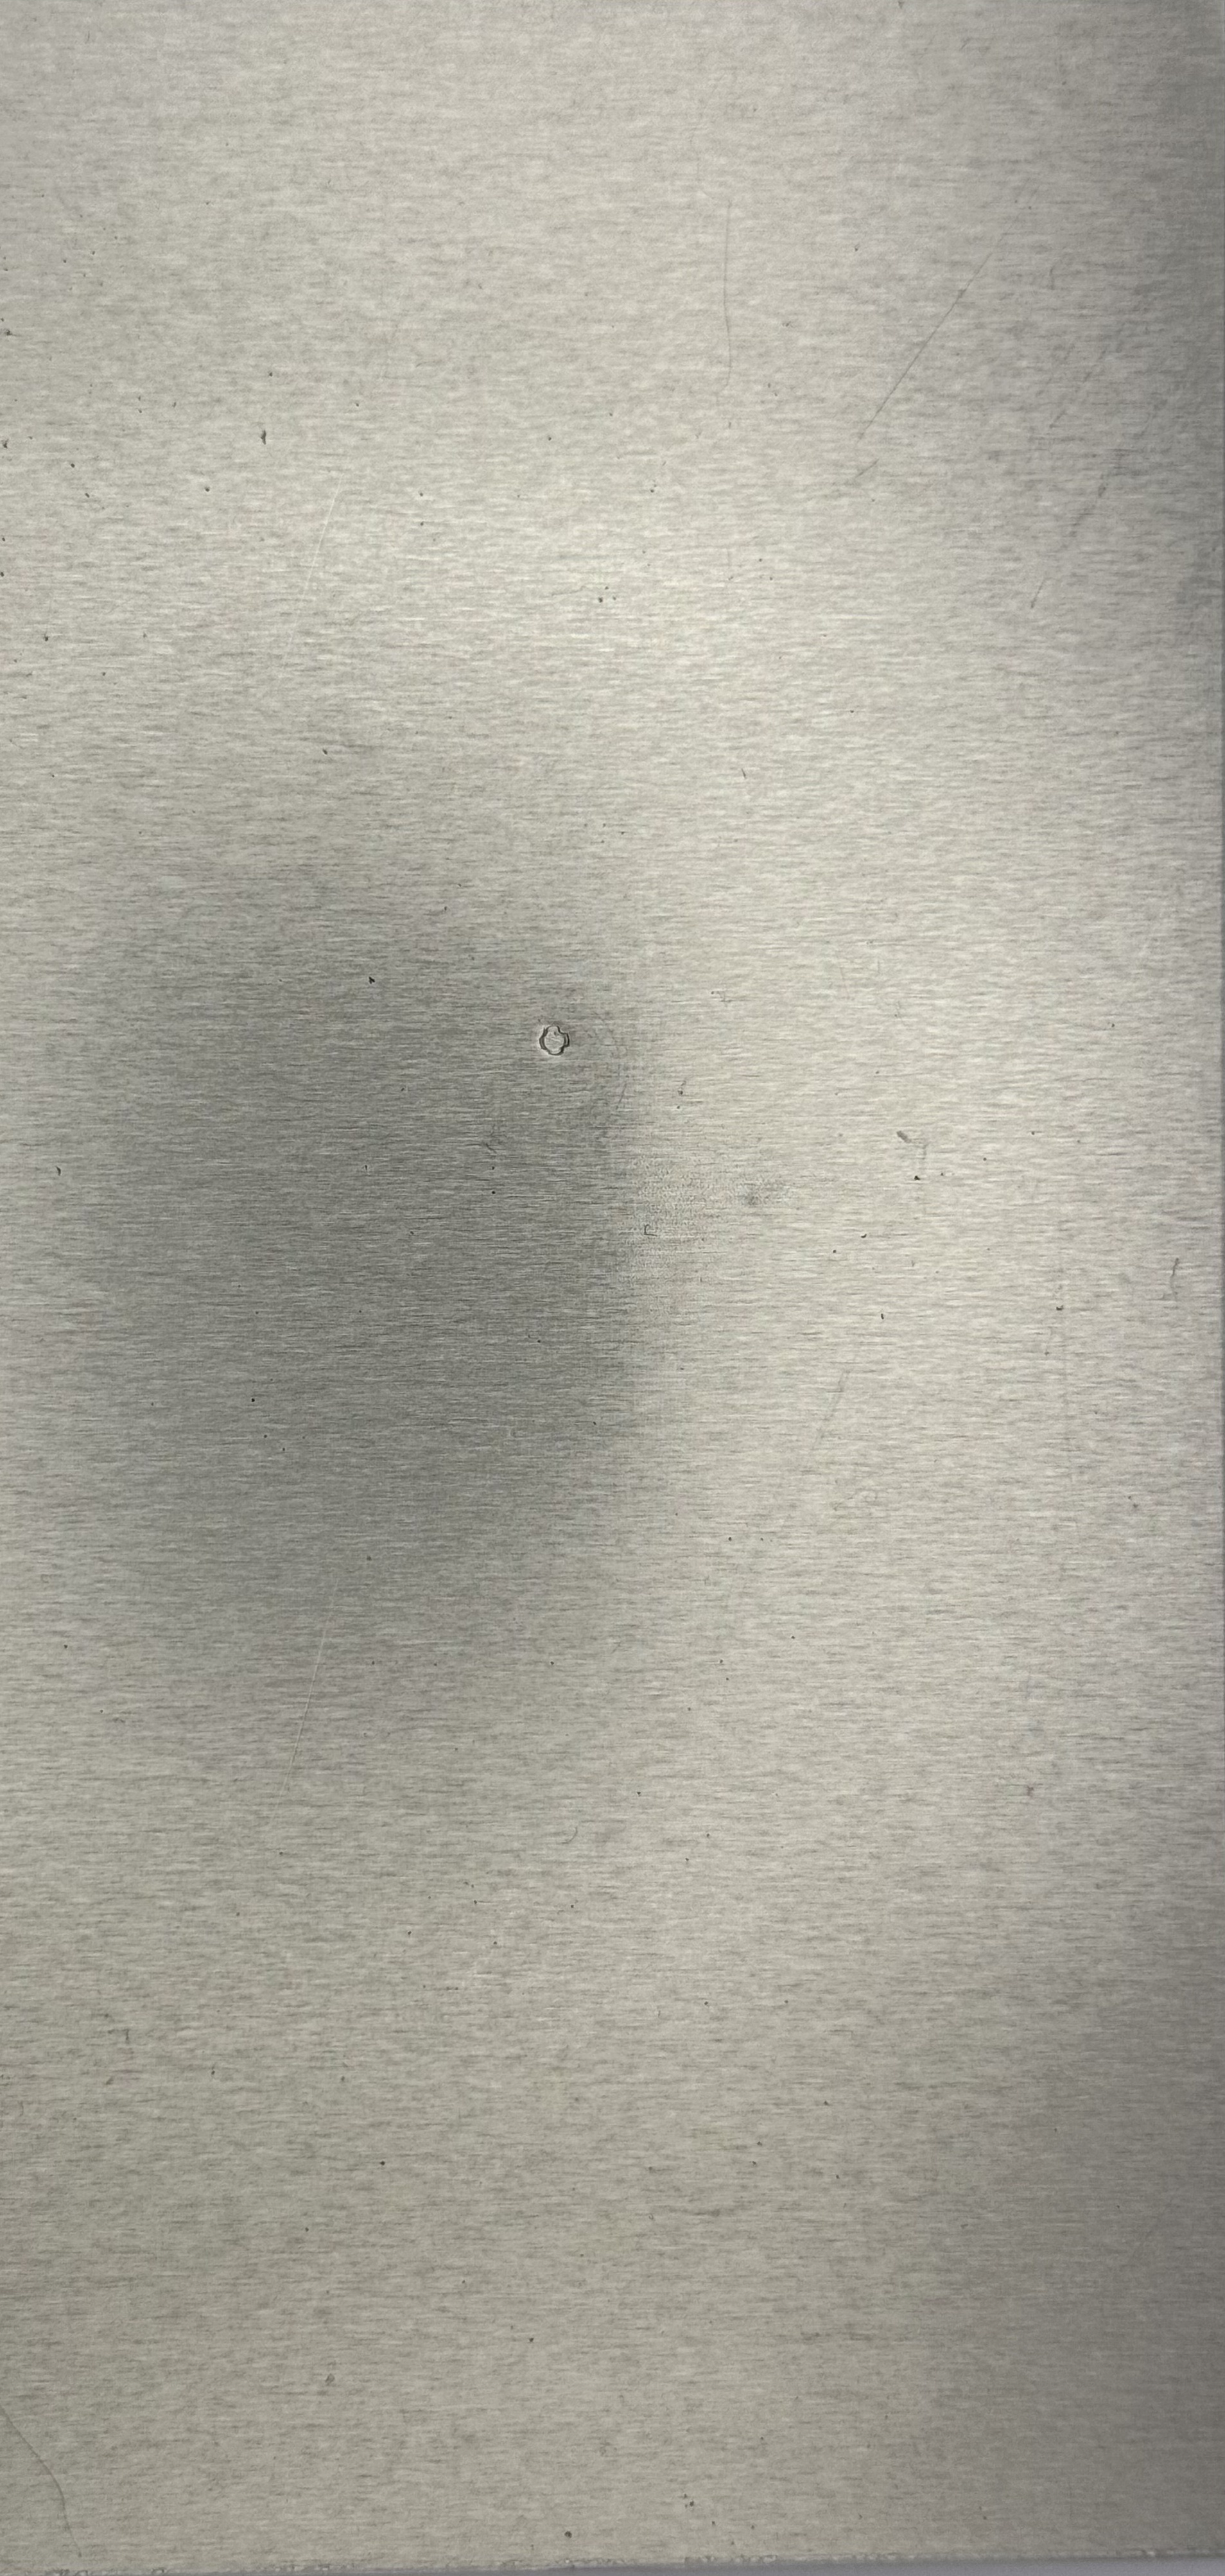Delle: (519, 1007, 590, 1073)
